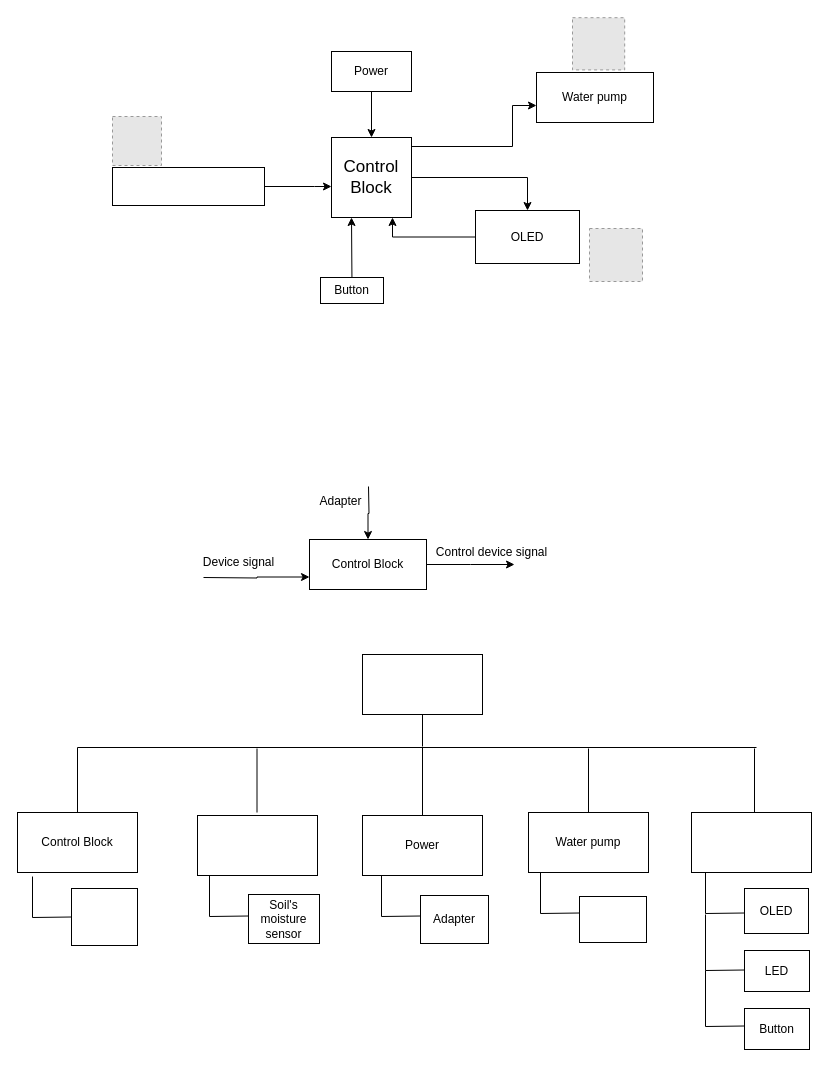
Image size: 829x1067. Some labels were removed from this diagram. Grey dashed boxes stand in for pictures. Here are the shapes that lost their labels. From the top down, the centre of each, then its label:
At (x=188, y=186): "Water level sensor".
At (x=422, y=684): "SMART WATERING DEVICE".
At (x=257, y=845): "Sensor".
At (x=751, y=842): "User Interface".
At (x=104, y=917): "Non-wireless MCU".
At (x=612, y=919): "Submersible pump".
